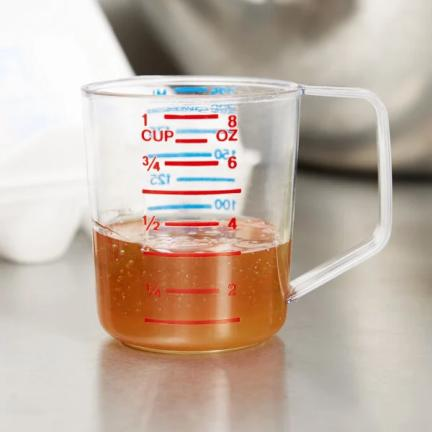container: (81, 83, 306, 348)
fluid: (94, 234, 289, 351)
fluid-surface: (98, 215, 285, 251)
